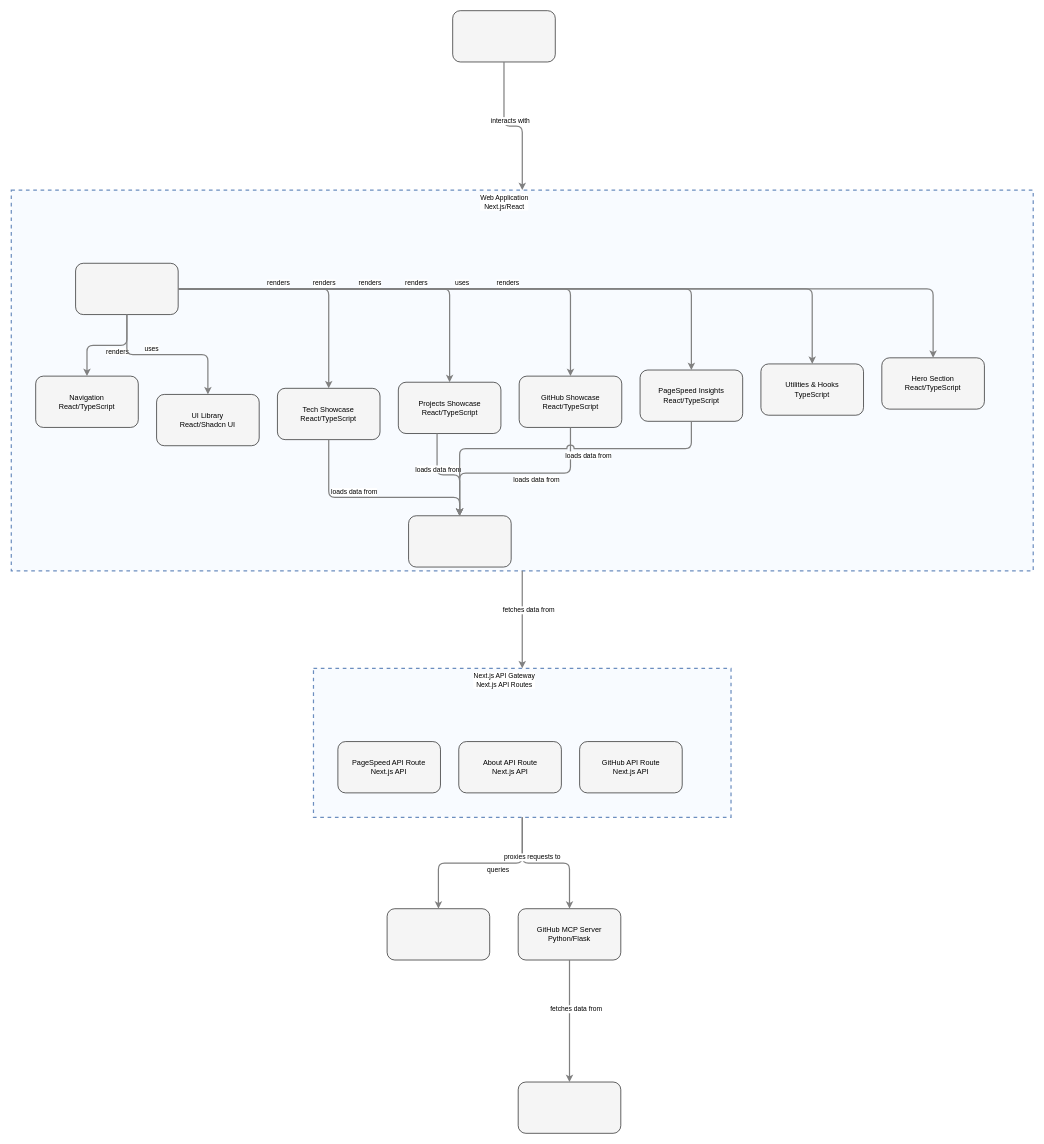
The diagram is 1044 pixels wide and 1144 high, and some of its shapes have lost their labels. Here are the shapes that lost their labels. From the top down, the centre of each, then its label:
At [503,36]: "User External Actor".
At [126,289]: "Main Application Next.js/React".
At [459,541]: "Local Data Sources TypeScript/JSON".
At [438,934]: "PageSpeed Insights API External Service".
At [569,1107]: "GitHub API External Service".
